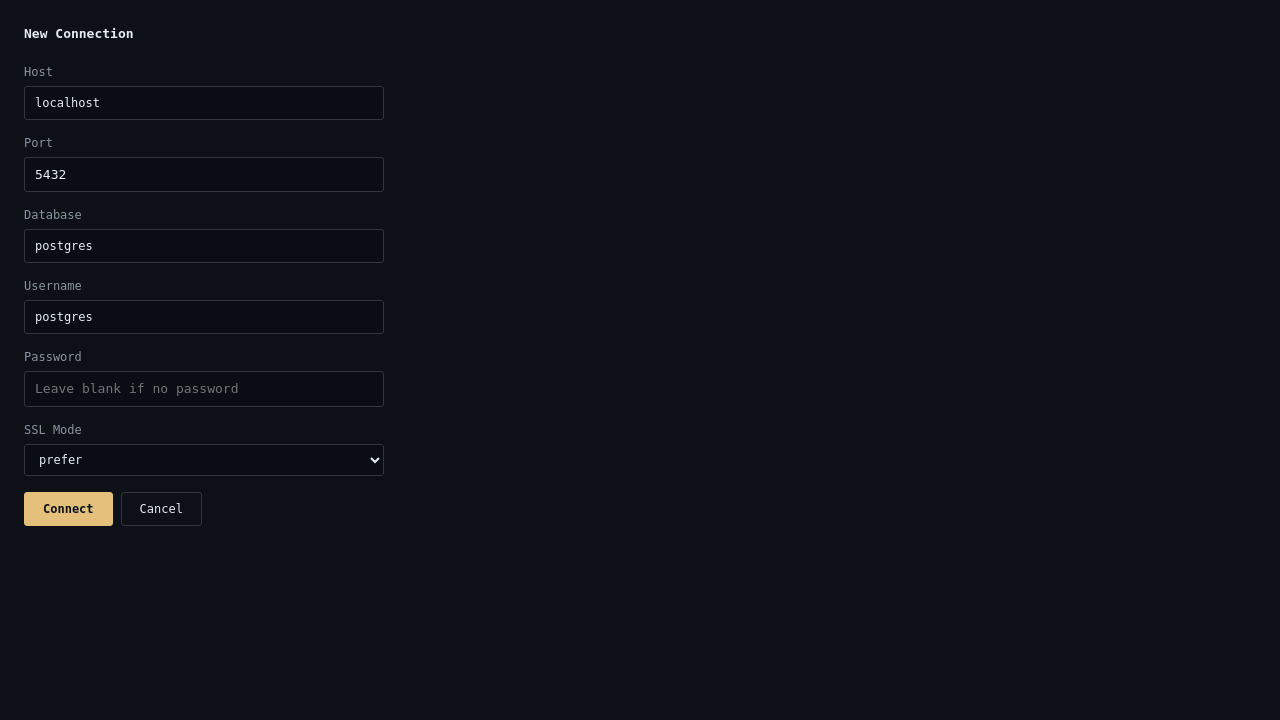
Scenario: NewConnectionForm — postgresql › shows error when Connect clicked with empty host
The image size is (1280, 720).
Clear the field labelled "Host": point(204, 102) [24,86,384,120]
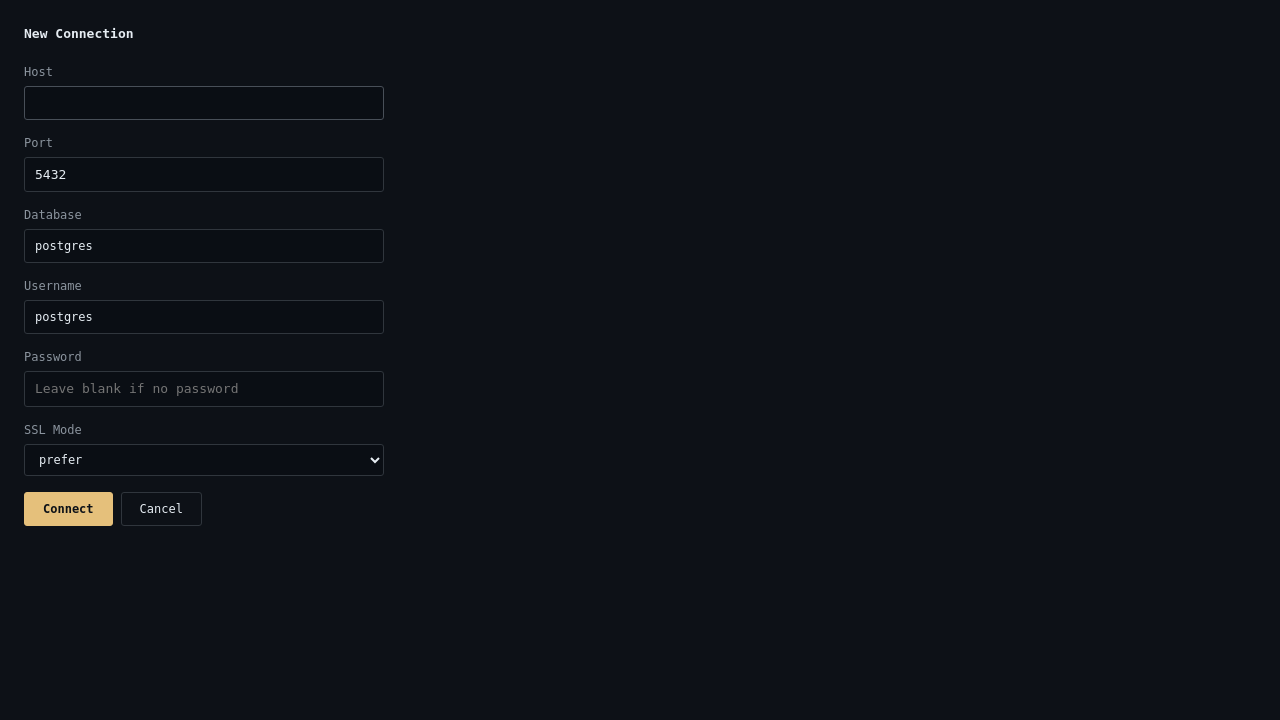
Click the button "Connect": point(68, 508) [24,492,113,526]
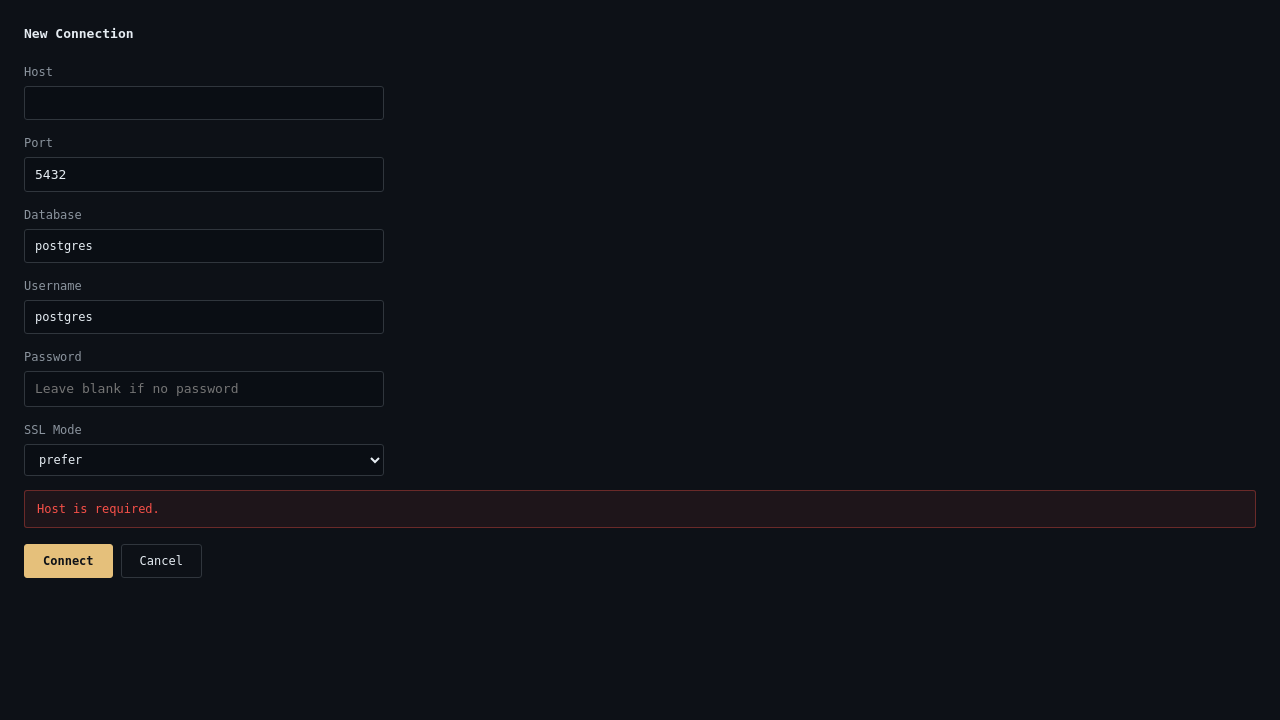
Expected: the text "Host is required." is shown, [24,490,1256,528]
